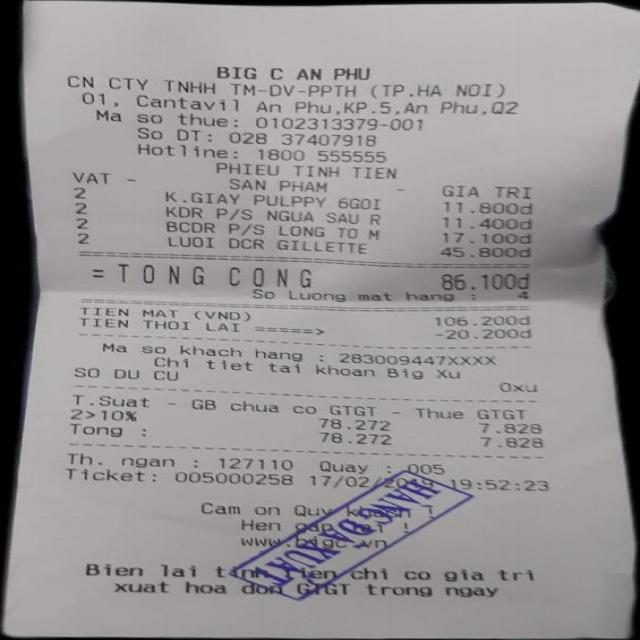Date: (305, 472, 440, 495)
Store_Name: (198, 53, 391, 85)
Total_Amount: (71, 259, 546, 294)
